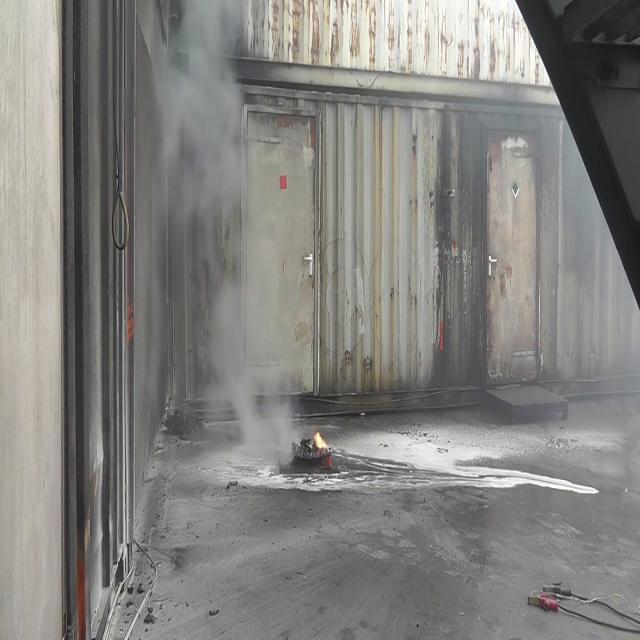Fire: (311, 422, 330, 458)
Smoke: (144, 1, 292, 483)
